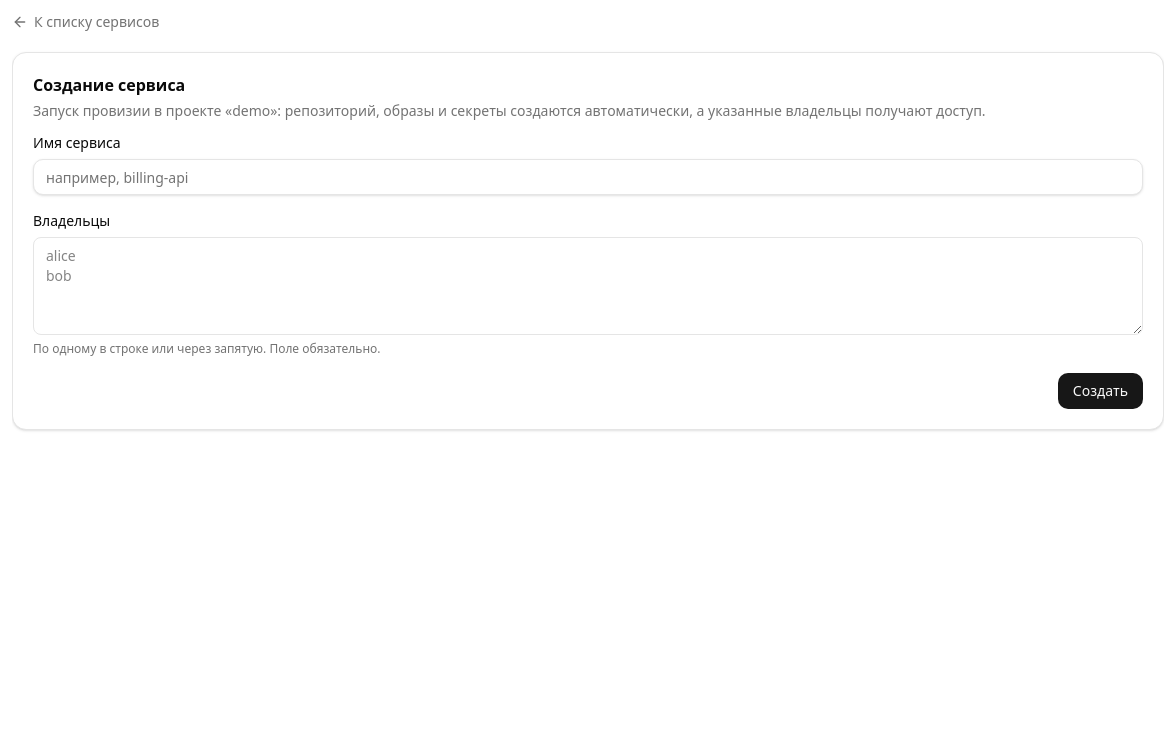
Test: CreateServicePage › конфликт имени (409) → тост без раскрытия внутренних деталей
In the field labelled "Имя сервиса": (588, 177) [33,159,1143,195], type "svc"
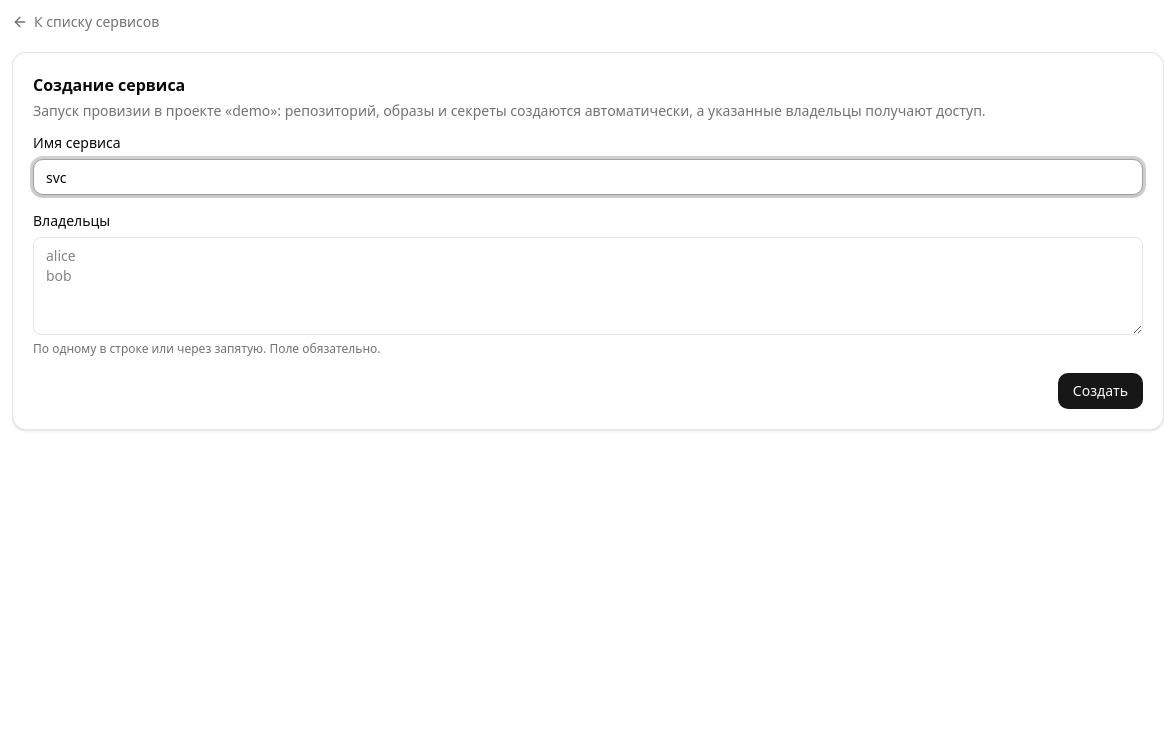
In the text box labelled "Владельцы": (588, 286) [33,237,1143,335], type "alice"
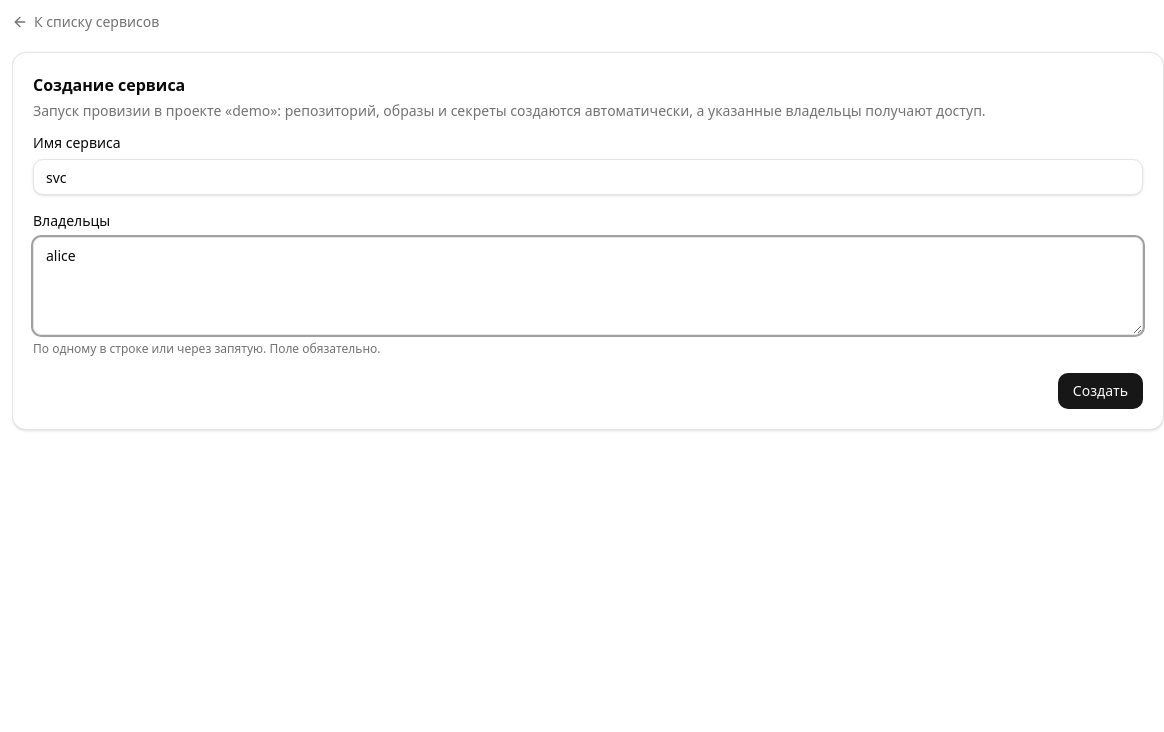
Click the button "Создать": (1100, 391) [1058,373,1143,409]
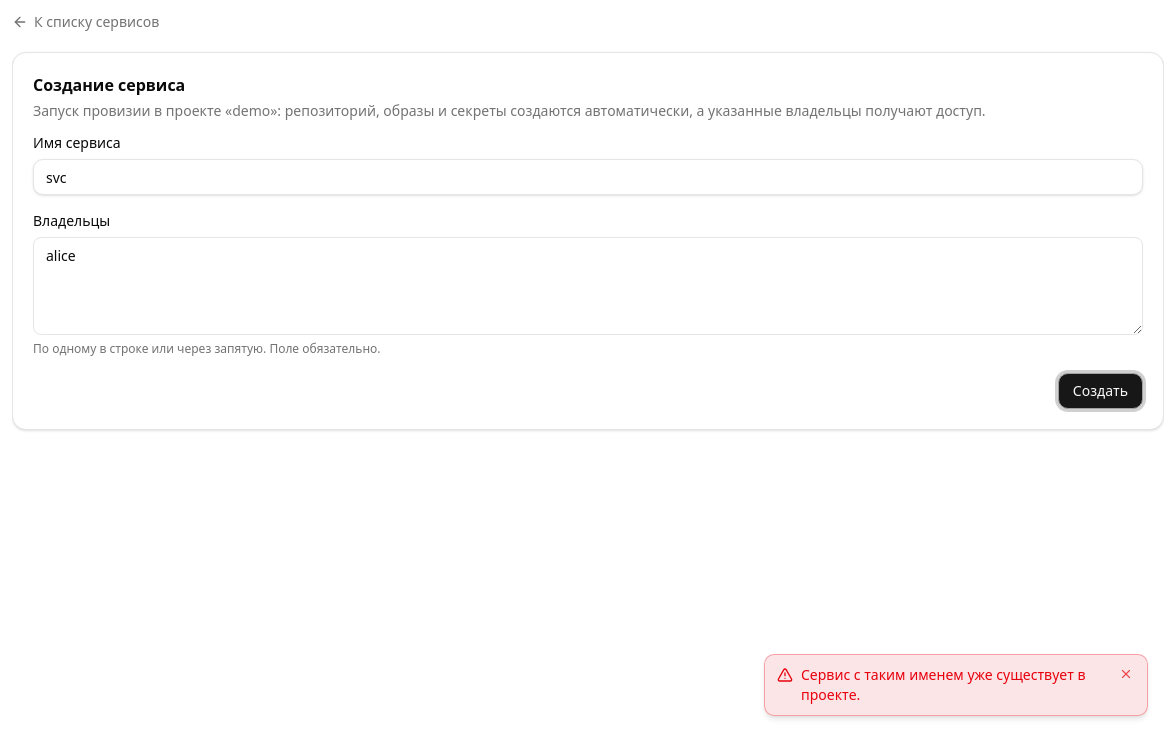
Expected: the message shows "уже существует", [801,665,1086,704]
